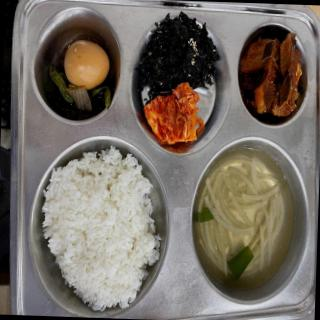Nasi: (36, 150, 163, 320)
